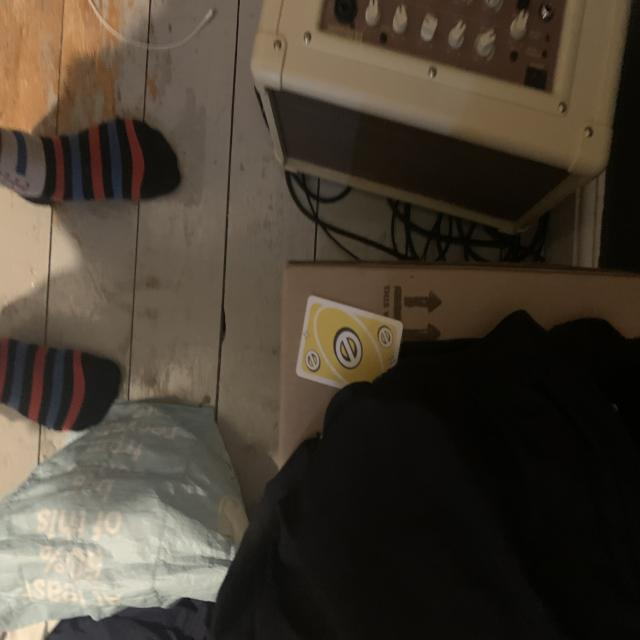lyellowskip-20: (374, 316, 400, 354)
